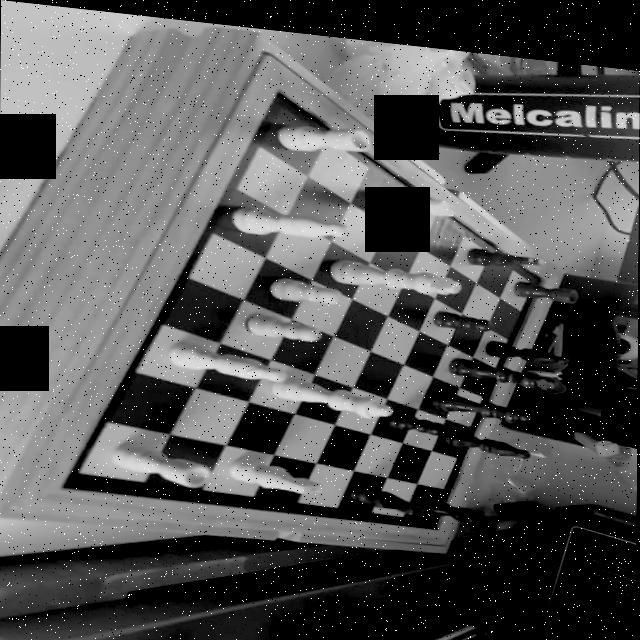chess-table-corners: (422, 508, 452, 526), (530, 258, 553, 275), (272, 78, 296, 94)
